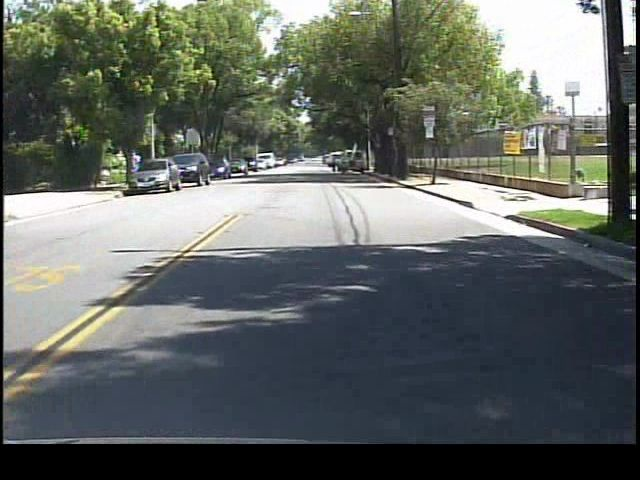person: (325, 149, 341, 175)
